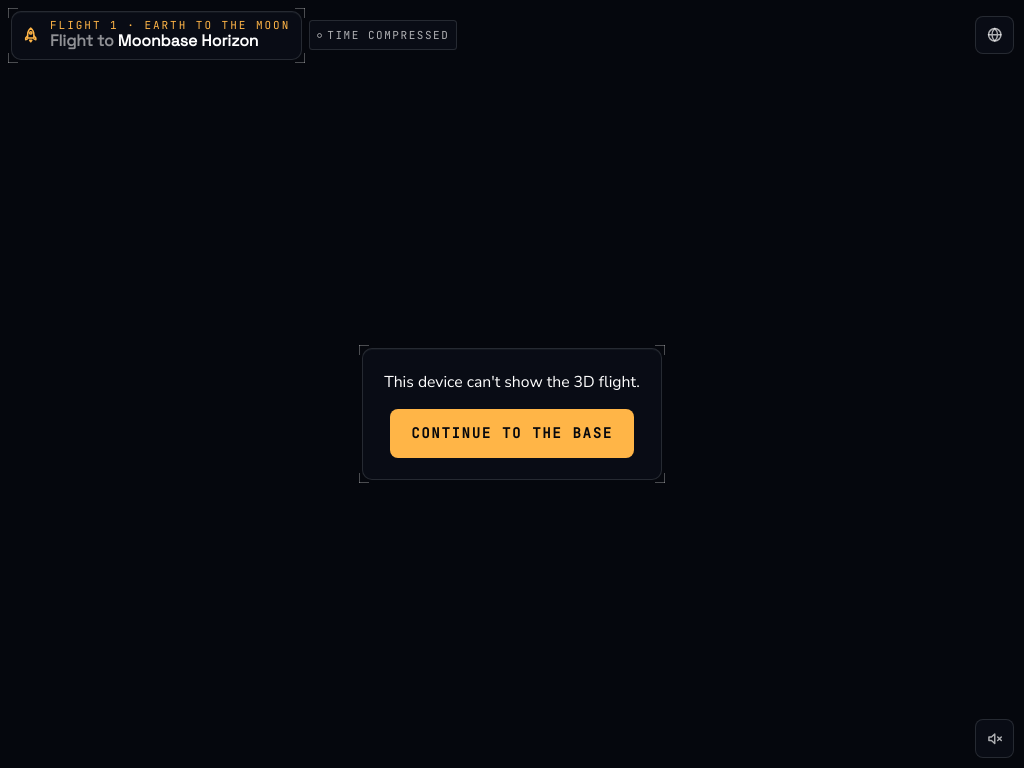
Scenario: first-time player flow › name → tutorial → six chapters → launch to Mars → the climb → an Olympus ending, and the progress is saved
This screenshot has width=1024, height=768.
Earlier steps of the test are not shown.
Later steps or results of the test are not shown.
Check: the text "Flight to" is shown, box [50,32,118,51]
Click the button "Continue to the base" at (512, 433), box [390,409,634,458]
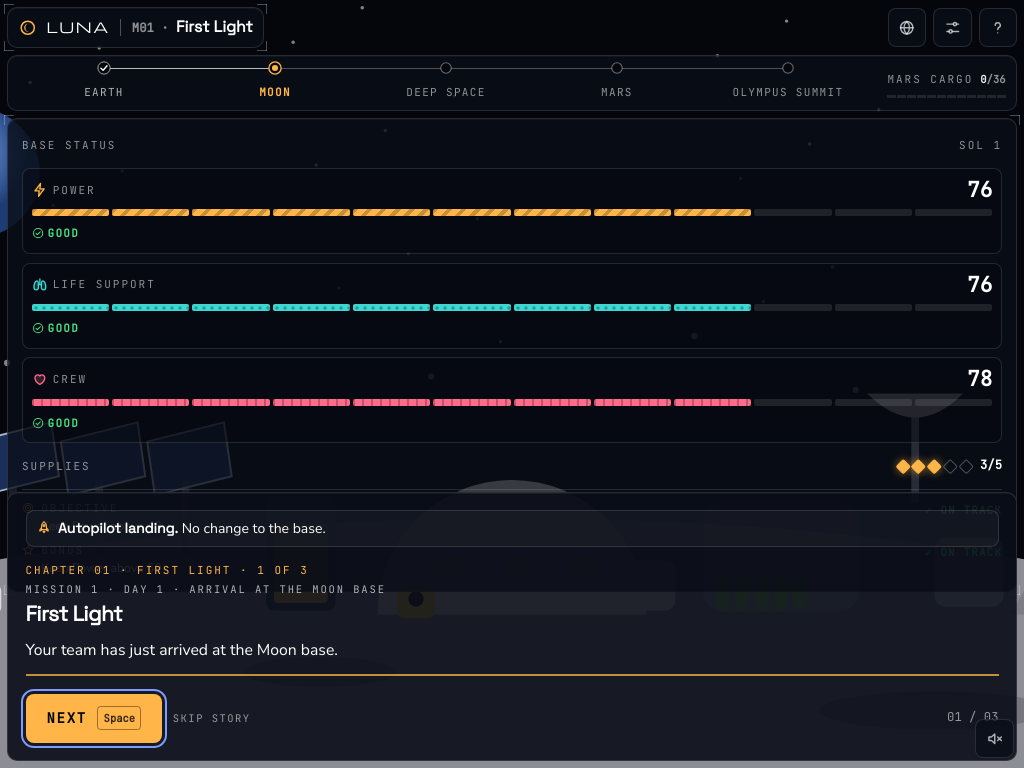
Check: the text "Mission 1 · Day 1 · Arrival at the Moon base" is shown, box [26,582,386,596]
Check: the text "Chapter 01 · First Light · 1 of 3" is shown, box [26,563,309,577]
Click the button "Next Space" at (94, 718), box [26,694,162,742]
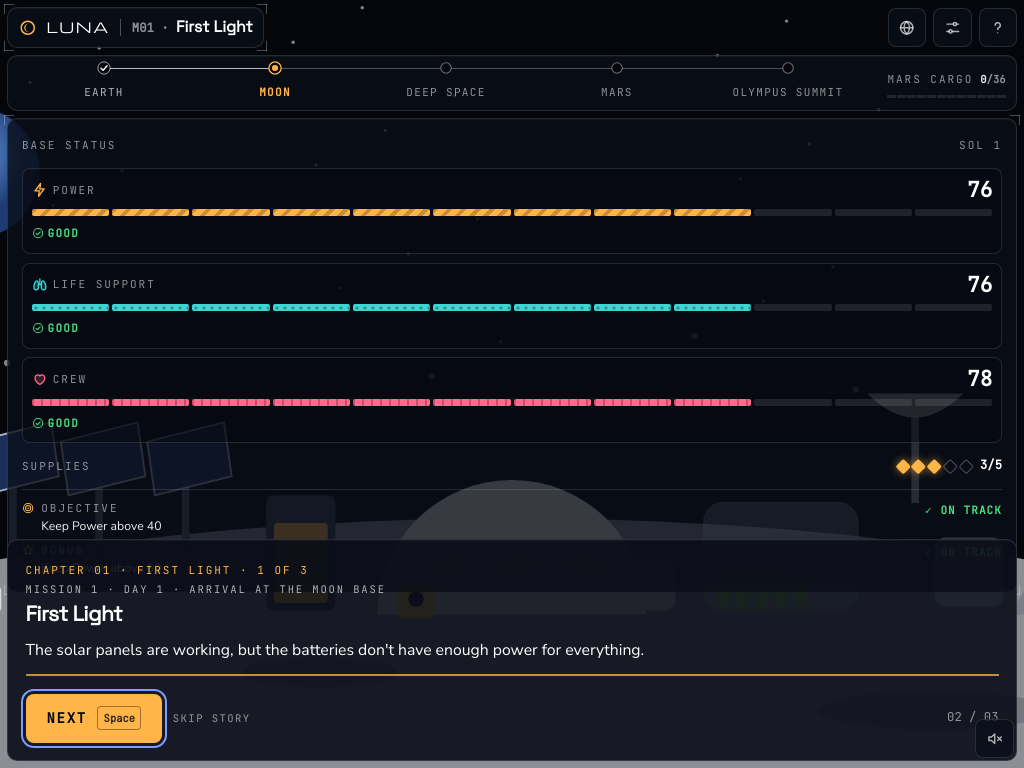
Click the button "Next Space" at (94, 718), box [26,694,162,742]
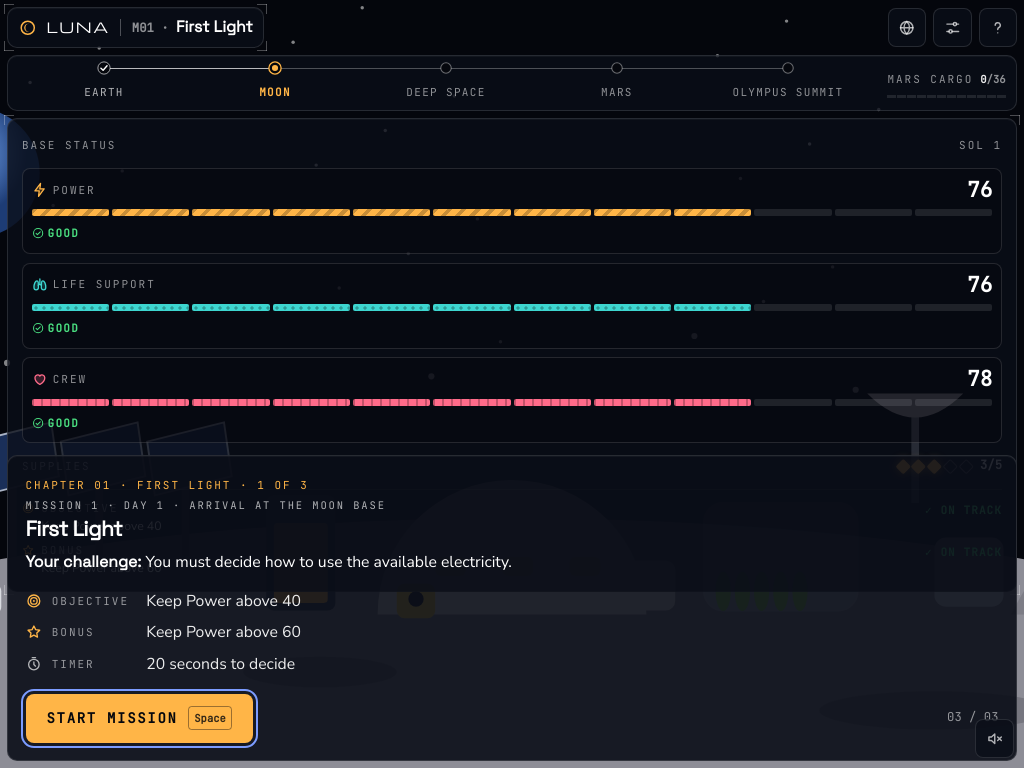
Check: the text "You must decide how to use the available electricity." is shown, box [145,551,512,573]
Click the button "Start mission Space" at (139, 718), box [26,694,253,742]
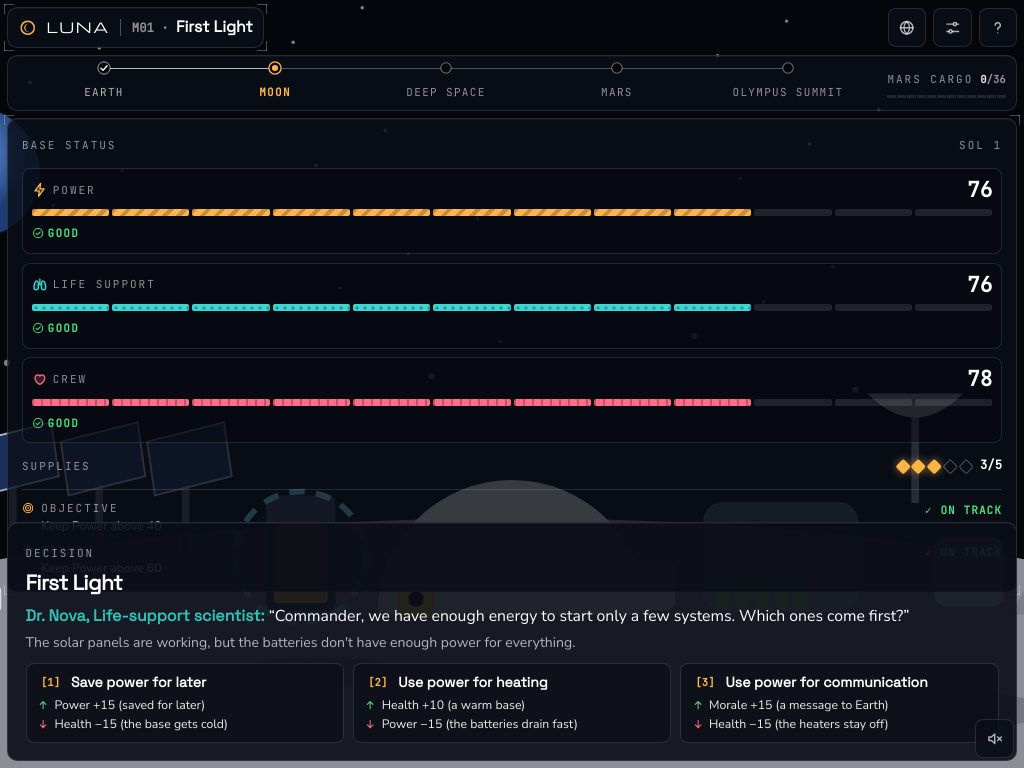
Check: the text "Keep Power above 40" is shown, box [41,518,162,534]
Press 1
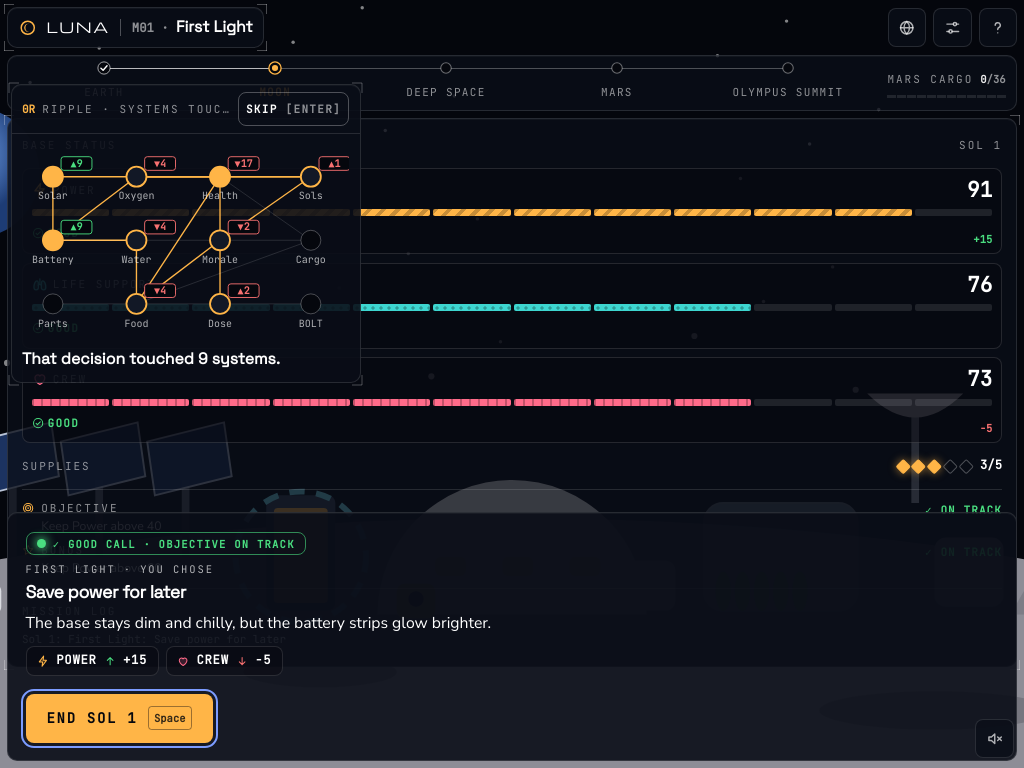
Check: the text "First Light · You chose" is shown, box [26,562,214,576]
Check: the text "That decision touched 9 systems." is shown, box [22,349,280,369]
Press Enter
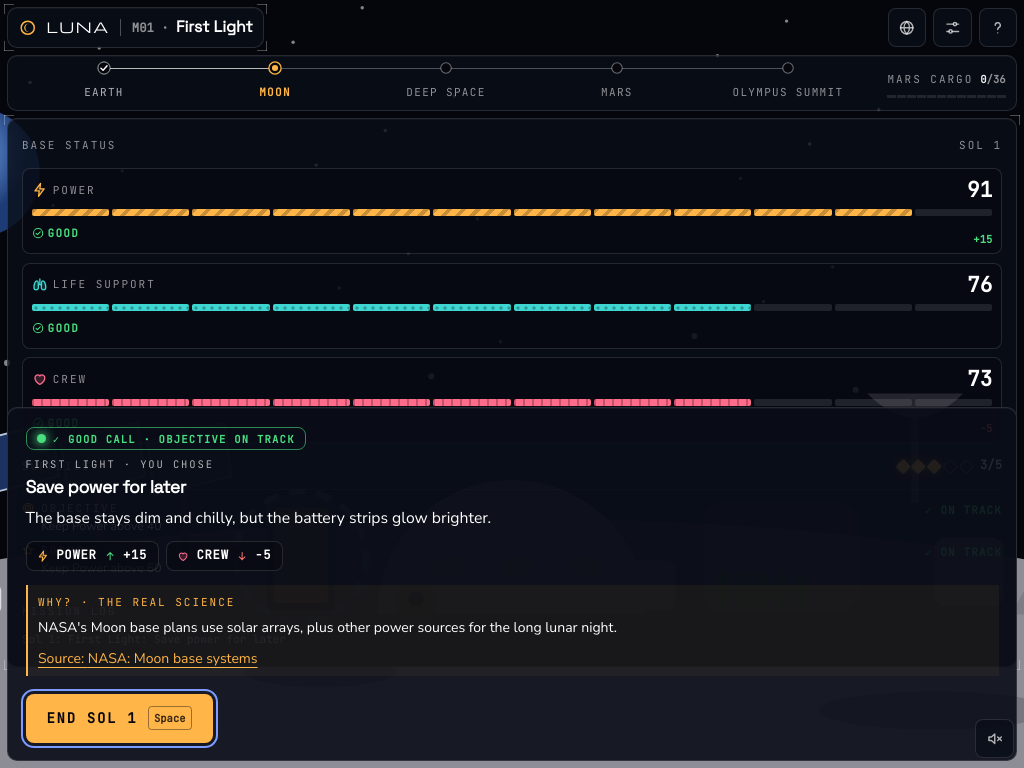
Check: the element "Why?" is shown, box [26,585,998,676]
